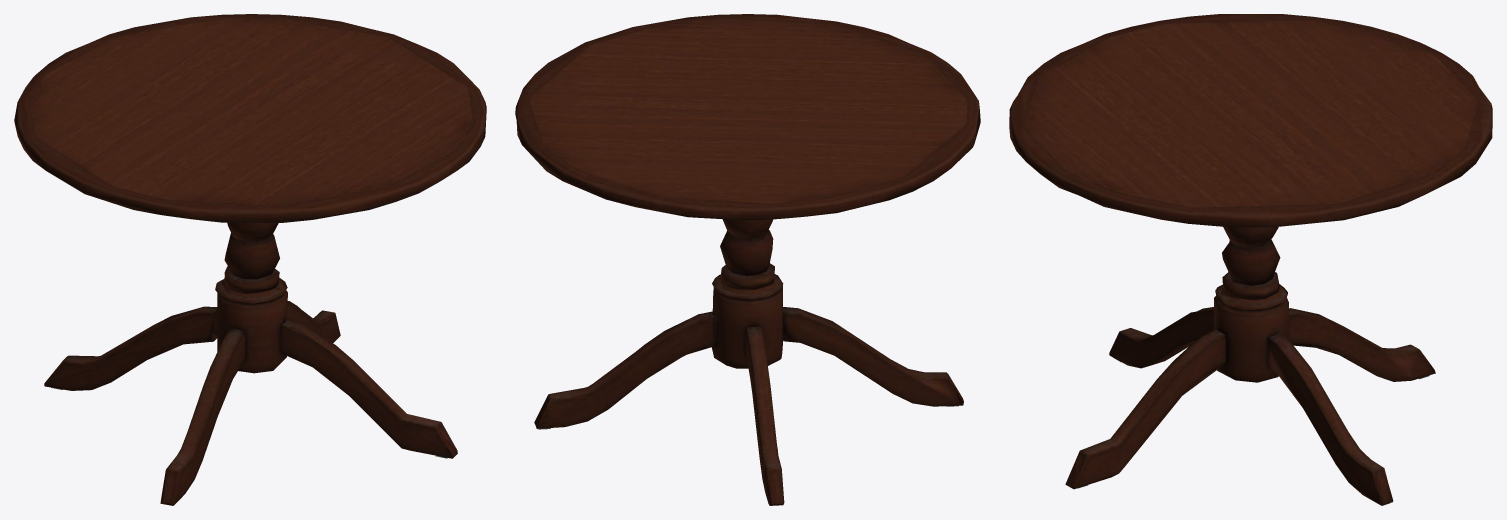
File: round_wooden_table_01.lod1.glb
3 renders of one model, left to right at view 1: azimuth 30°, elevation 25°; view 2: azimuth 150°, elevation 25°; view 3: azimuth 270°, elevation 25°, orthographic. The views are drawn at different scales.
Parts seen in each view (by area): view 1: round_wooden_table_01; view 2: round_wooden_table_01; view 3: round_wooden_table_01.
Boxes of the visible parts, x1,y1,x2,y2 form: round_wooden_table_01: [14, 14, 486, 505]; round_wooden_table_01: [515, 14, 980, 505]; round_wooden_table_01: [1009, 14, 1492, 505].
Bounding box in the file's own units: 1.4 × 1.01 × 1.39.
Materials: 1 (1 with a texture image).
